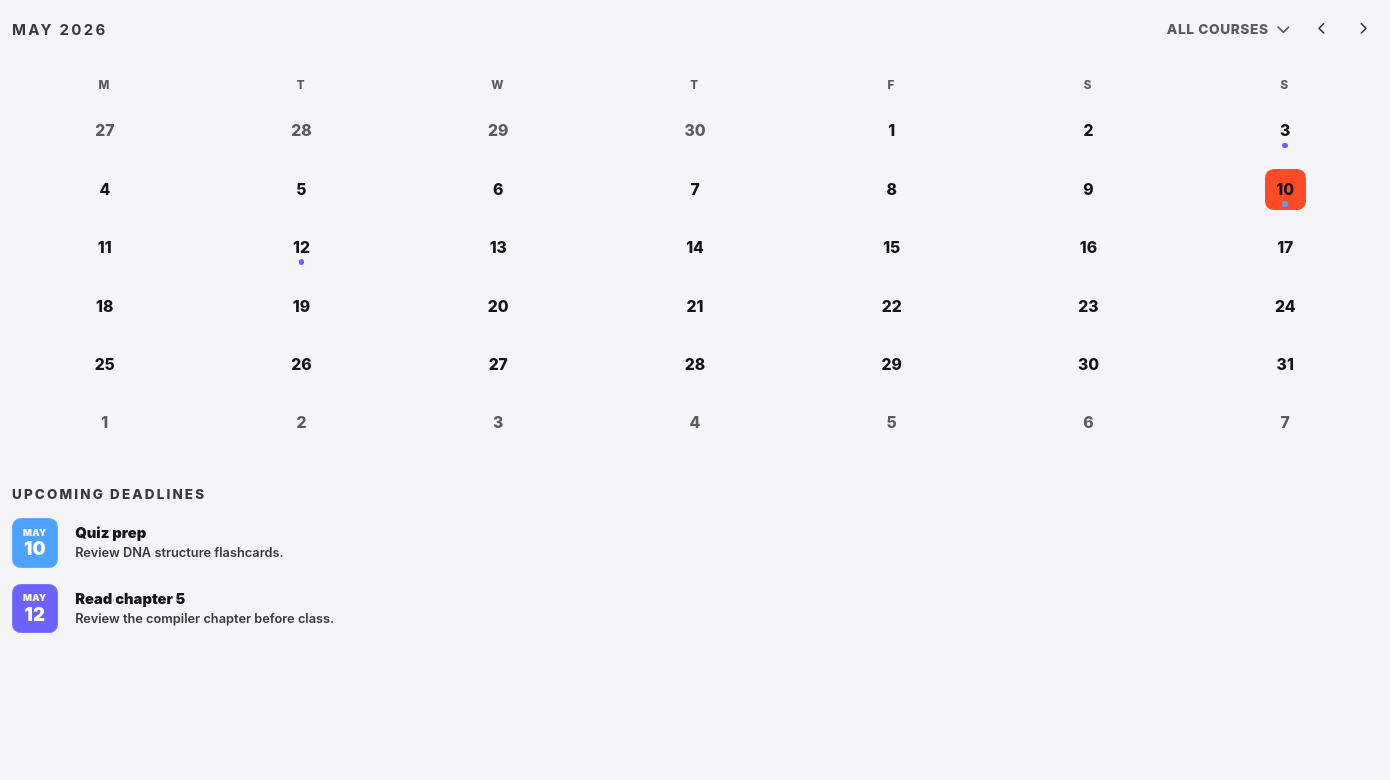
Scenario: DeadlineCalendar › filters calendar dots and upcoming deadlines by course
This screenshot has width=1390, height=780.
Expected: the heading "Upcoming Deadlines" is shown, top-left (12, 486), bottom-right (206, 502)
Expected: the number of elements with class "deadline-calendar__day-dot" is 3, top-left (1282, 143), bottom-right (1288, 148); top-left (1282, 201), bottom-right (1288, 207); top-left (299, 260), bottom-right (304, 265)
Click the button "All courses": click(1229, 30) top-left (1158, 12), bottom-right (1300, 47)
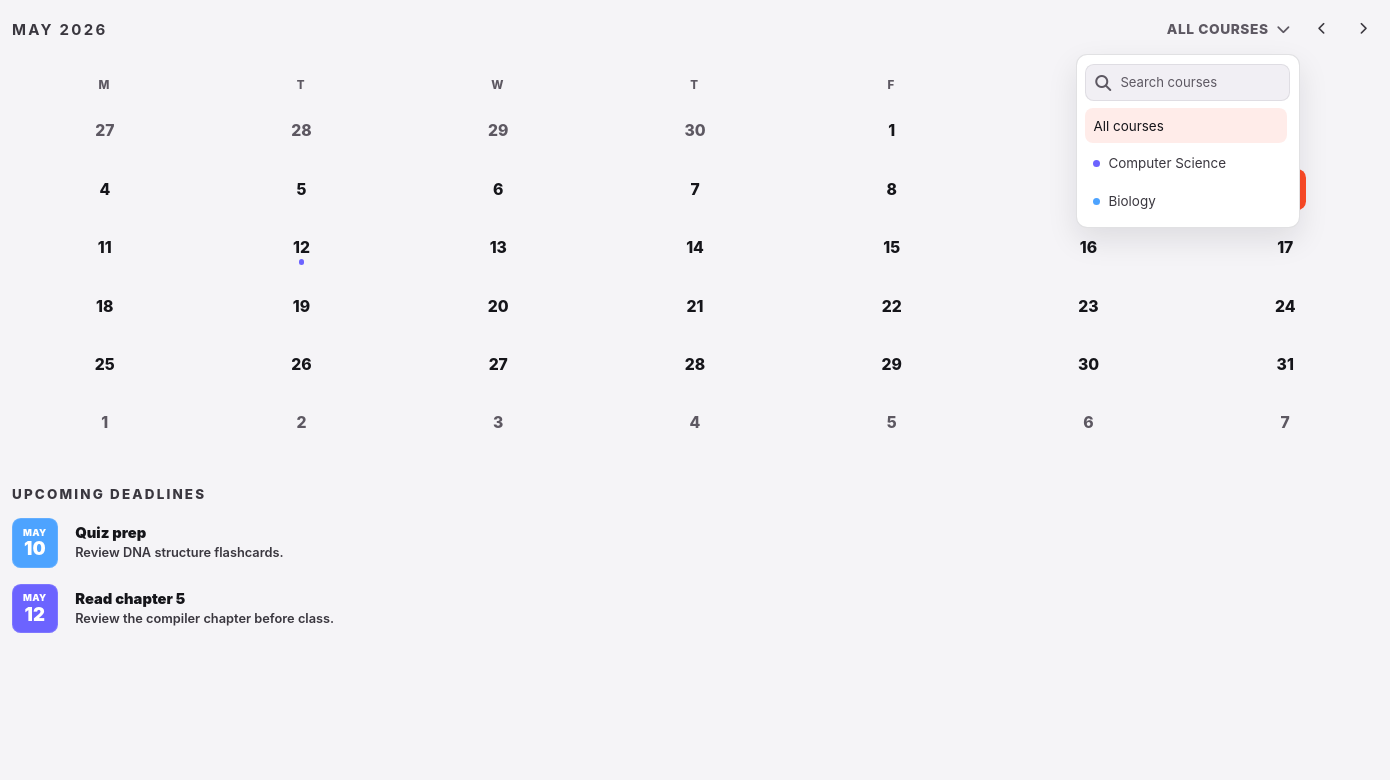
In the search field labelled "Search courses": (1199, 83) top-left (1118, 72), bottom-right (1280, 94), type "bio"
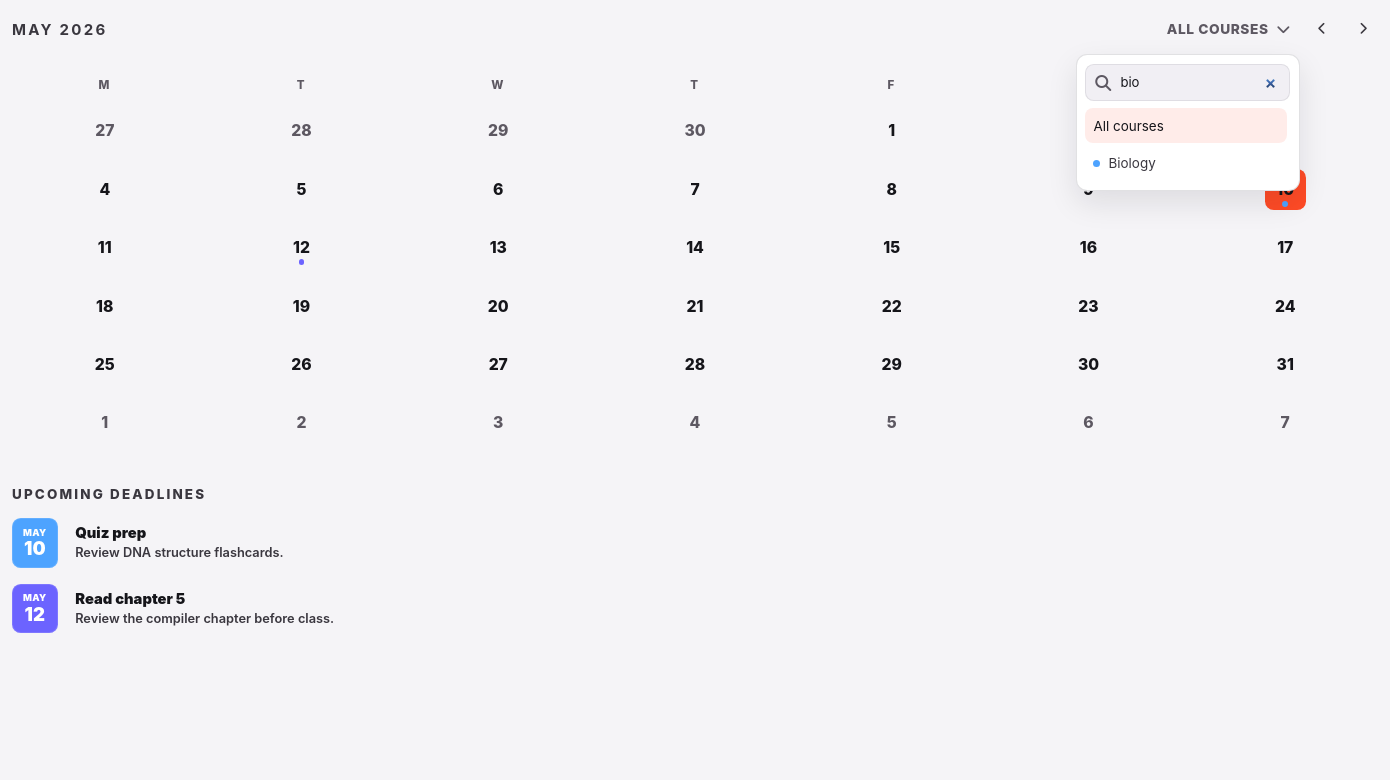
Click the option "Biology": click(1186, 163) top-left (1085, 146), bottom-right (1287, 181)
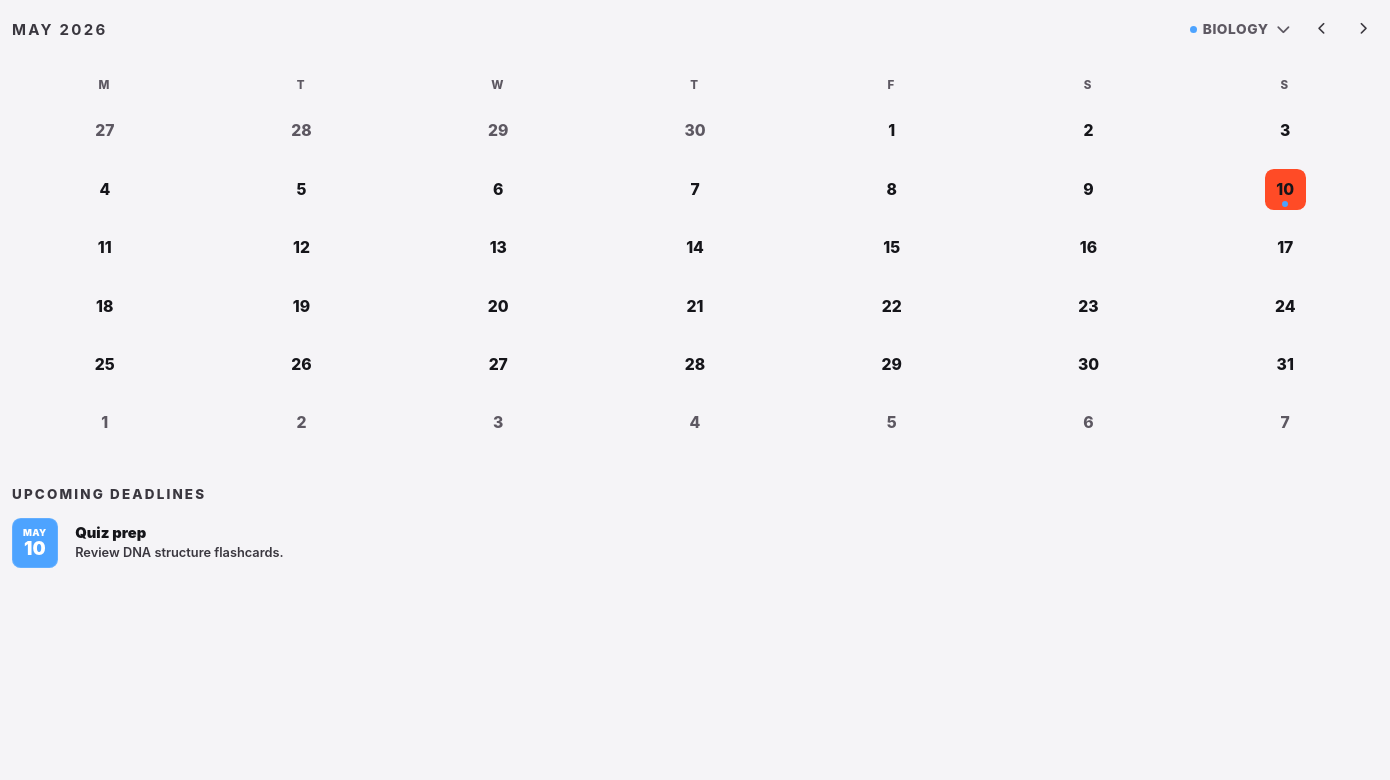
Expected: the link "Quiz prep" is shown, top-left (75, 524), bottom-right (146, 542)
Expected: the link "Read chapter 5" is gone
